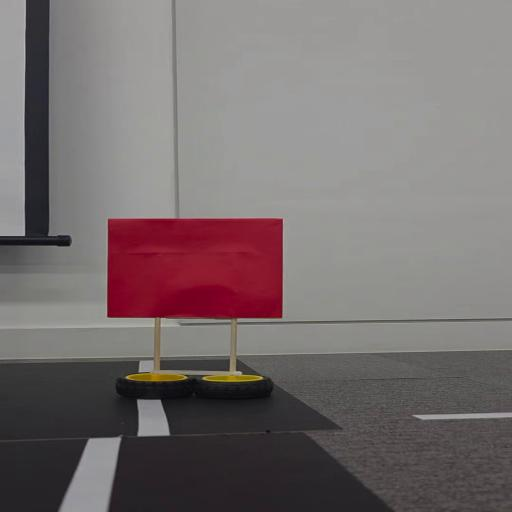Sign_A: (98, 212, 294, 408)
